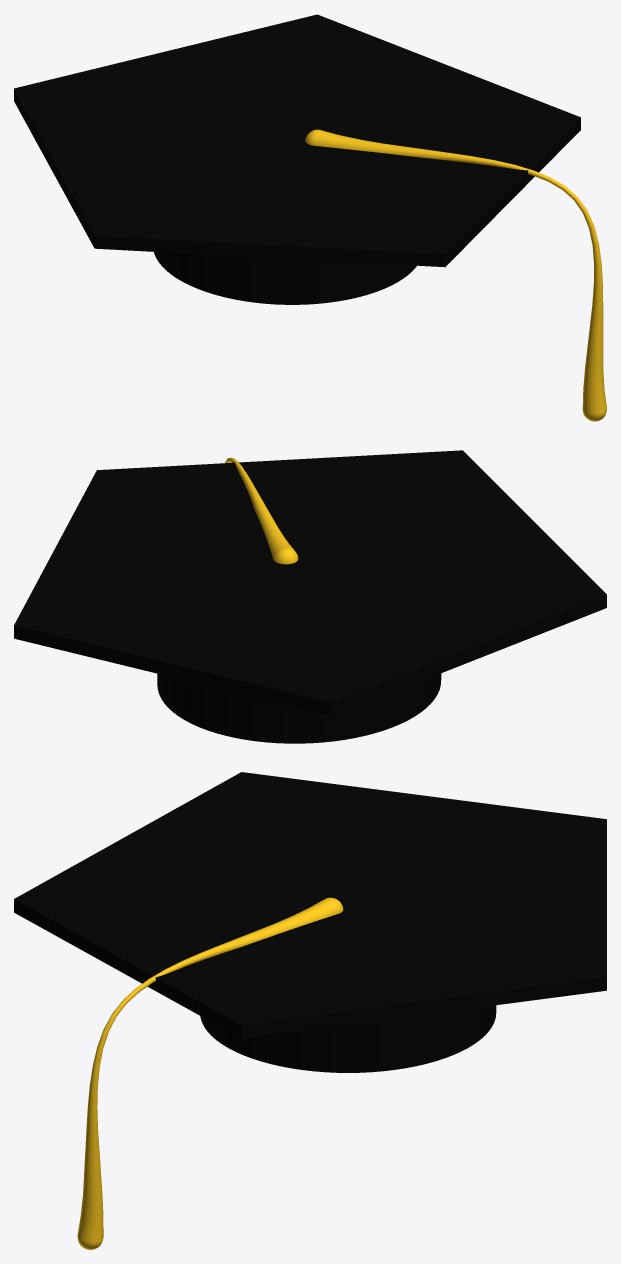
Rendered from Toga.fbx.
The picture shows the model from 3 angles, top to bottom: view 1: azimuth 30°, elevation 25°; view 2: azimuth 150°, elevation 25°; view 3: azimuth 270°, elevation 25°; orthographic projection. The views are drawn at different scales.
Parts seen in each view (by area): view 1: root (×3); view 2: root (×3); view 3: root (×3).
Boxes of the visible parts, x1,y1,x2,y2 form: root (×3): (14,14,606,421); root (×3): (14,450,606,743); root (×3): (14,772,606,1249).
Bounding box in the file's own units: 0.2859 × 0.1391 × 0.2831.
3 materials, 3 textured.
